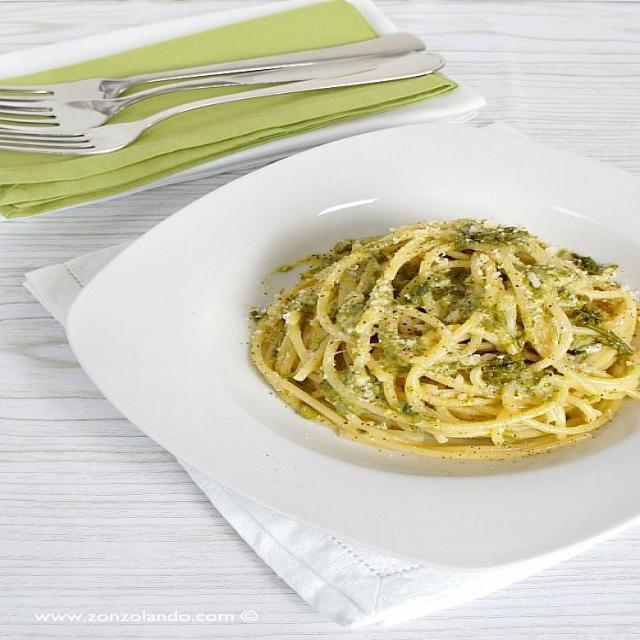Pasta with carbonara sauce: (211, 183, 640, 505)
